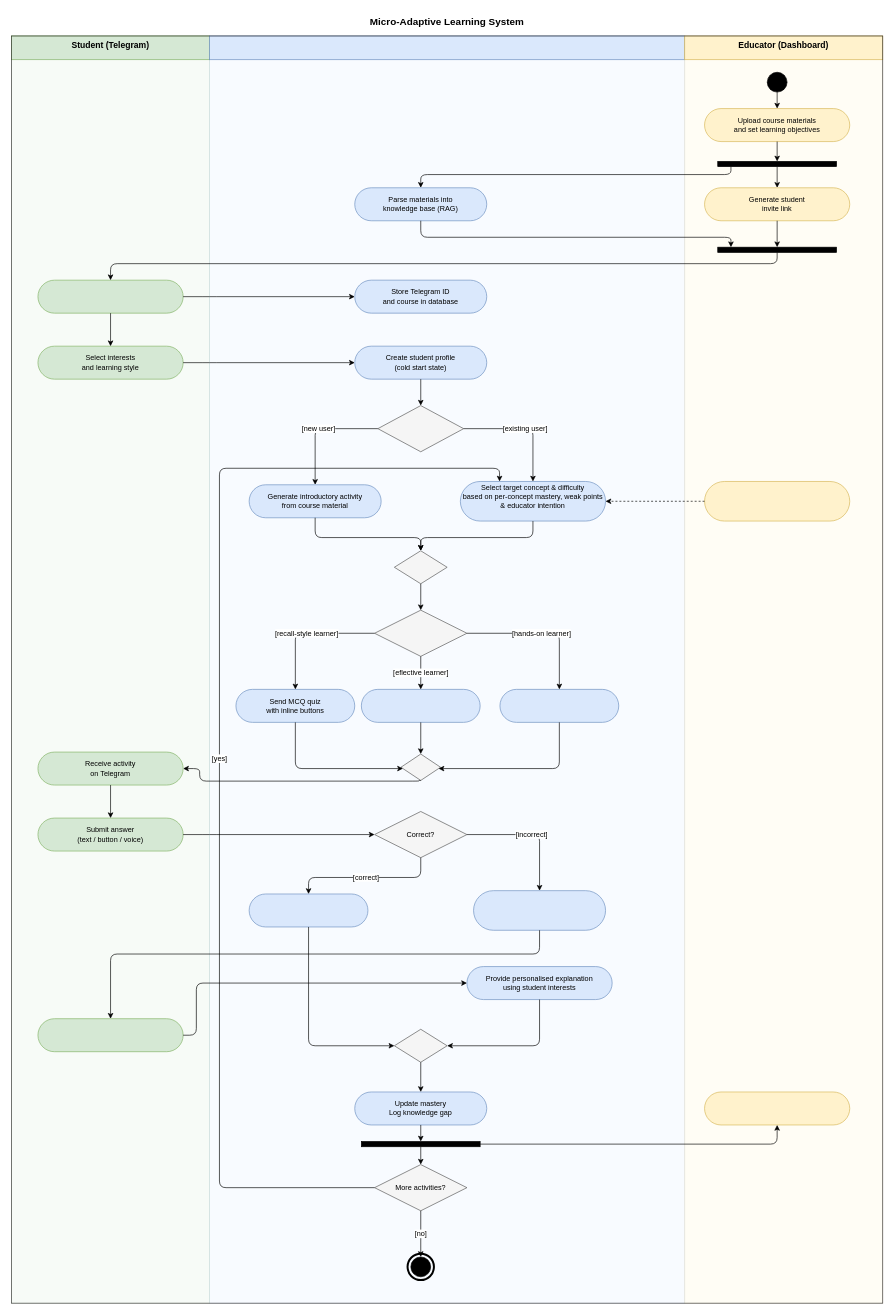
Some shapes in this 894 by 1315 pixel diagram are drawn without their labels. The centre of each missing label's shape, as x and y in pixels:
"Ask student to explain concept in own words" goes at [420,705].
"Ask student to find bug in code snippet" goes at [559,705].
"Click invite link → Telegram Bot opens" goes at [110,296].
"Initiate Socratic dialogue to find knowledge gap" goes at [539,910].
"Respond to follow-up question" goes at [110,1035].
"System (Backend)" goes at [447,47].
"Update mastery Send encouragement" goes at [308,910].
"Update weekly teaching intention" goes at [777,501].
"View class mastery heatmap and weak concepts" goes at [777,1108].
